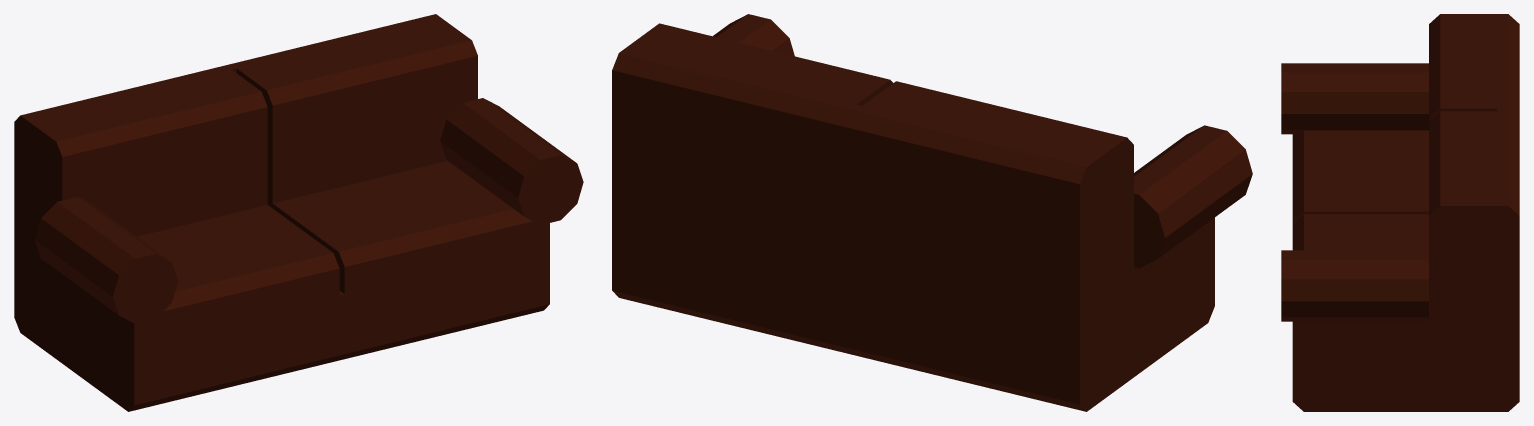
The model's file is Loveseat_Color.fbx.
3 views of the same model, side by side, from view 1: azimuth 30°, elevation 25°; view 2: azimuth 150°, elevation 25°; view 3: azimuth 270°, elevation 25° (orthographic). The views are drawn at different scales.
Visible parts, largest first — view 1: Object; view 2: Object; view 3: Object.
Part boxes in pixels (box(x1,y1,x2,y2)): Object: box(14, 14, 583, 411); Object: box(612, 14, 1252, 411); Object: box(1281, 14, 1519, 411).
Bounding box in the file's own units: 227 × 100 × 105.
